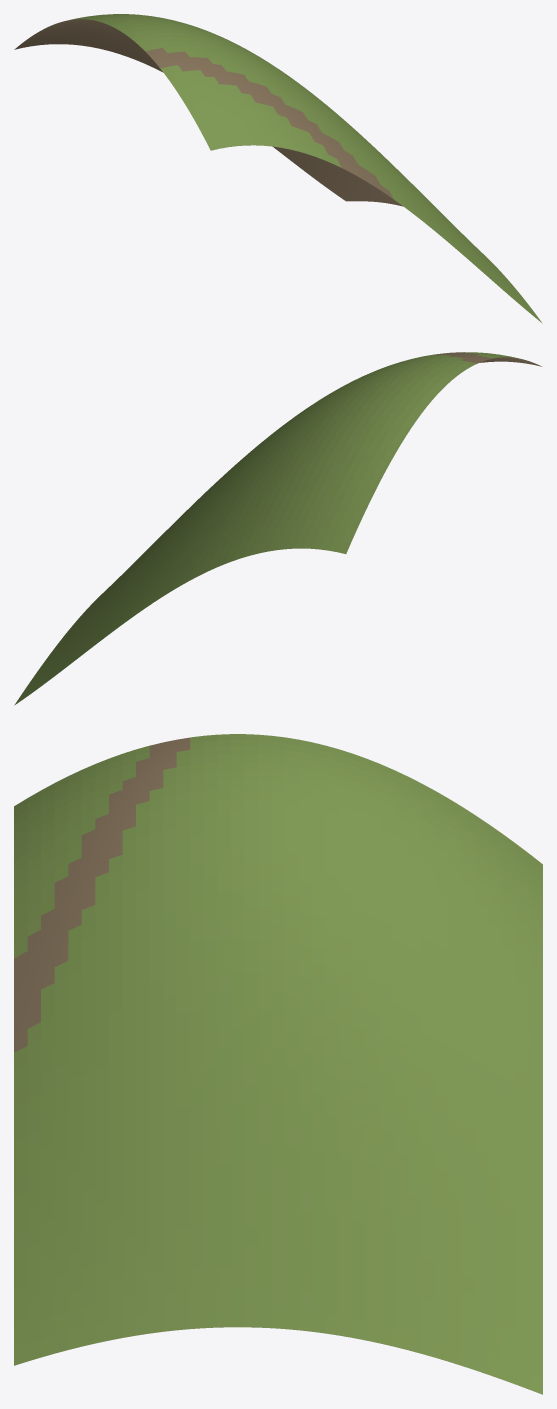
File: region_3_0.glb
3 renders of one model, top to bottom at view 1: azimuth 30°, elevation 25°; view 2: azimuth 150°, elevation 25°; view 3: azimuth 270°, elevation 25°, orthographic. The views are drawn at different scales.
Visible parts, largest first — view 1: OD_Meadow.030, OD_Ground.030; view 2: OD_Meadow.030, OD_Ground.030; view 3: OD_Meadow.030, OD_Ground.030.
Part boxes in pixels (bbox=[...]): OD_Meadow.030: bbox=[47, 14, 542, 323]; OD_Ground.030: bbox=[14, 19, 525, 309]; OD_Meadow.030: bbox=[14, 352, 539, 705]; OD_Ground.030: bbox=[192, 352, 542, 579]; OD_Meadow.030: bbox=[14, 734, 542, 1394]; OD_Ground.030: bbox=[14, 737, 357, 1340].
Size of the model in its own units: 31.52 by 29.88 by 32.35.
